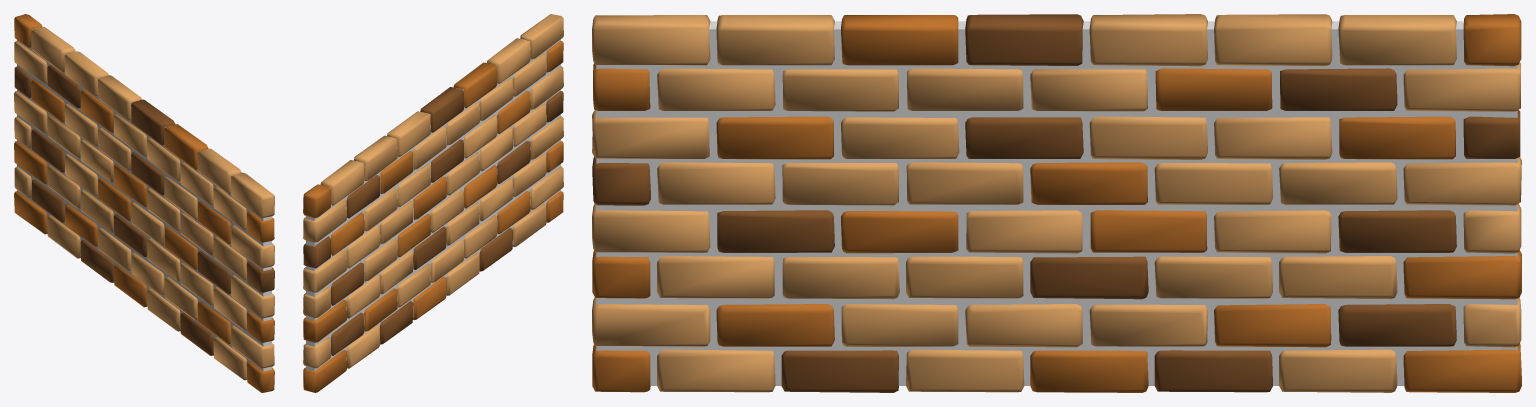
The model's file is wall.glb.
The picture shows the model from 3 angles, left to right: view 1: azimuth 30°, elevation 25°; view 2: azimuth 150°, elevation 25°; view 3: azimuth 270°, elevation 25°; orthographic projection. The views are drawn at different scales.
Visible parts, largest first — view 1: Cube, Cube.002; view 2: Cube, Cube.002; view 3: Cube, Cube.002.
Part boxes in pixels (x1,y1,x2,y2): Cube: (14, 14, 274, 392); Cube.002: (17, 28, 271, 377); Cube: (303, 14, 563, 392); Cube.002: (306, 39, 560, 371); Cube: (592, 14, 1521, 392); Cube.002: (596, 21, 1517, 385).
Bounding box in the file's own units: 0.2782 × 3.48 × 7.93.
1 material, 1 textured.
